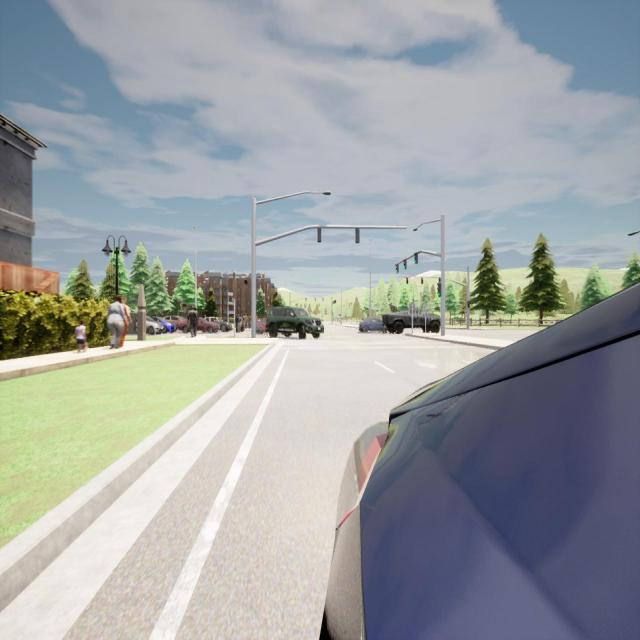Pedestrian: (107, 294, 125, 348), (120, 295, 132, 348), (75, 319, 88, 353), (188, 306, 198, 337), (237, 313, 243, 333), (235, 315, 239, 333), (242, 313, 246, 331)
Traffic_Signs: (409, 304, 415, 316), (422, 304, 428, 314)
Vehicle: (325, 284, 639, 638), (267, 307, 324, 339), (382, 304, 441, 333), (136, 315, 161, 336), (358, 318, 388, 333), (206, 316, 233, 332), (162, 316, 188, 332), (154, 316, 176, 333), (198, 318, 219, 334), (250, 319, 266, 335)
traffic_light: (355, 228, 360, 244), (318, 227, 322, 243), (437, 284, 441, 298), (414, 253, 418, 264), (396, 264, 399, 274), (404, 259, 406, 269), (406, 277, 408, 284), (421, 277, 423, 284), (334, 300, 335, 304), (335, 300, 336, 304), (315, 298, 316, 302), (322, 298, 323, 302), (333, 301, 333, 304), (306, 298, 306, 302)
